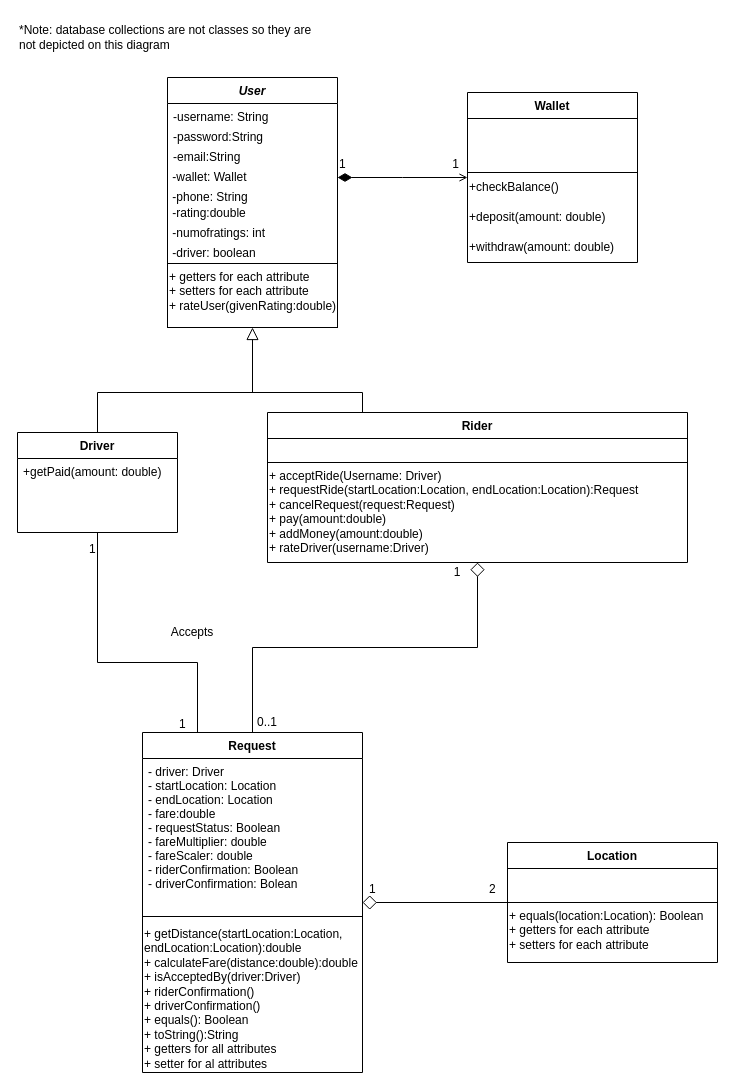
This 735x1090 diagram has some shape labels left out. Here are the shapes that lost their labels. From the top down, the centre of each, then its label:
At point 552,145: "-Balance: double".
At point 477,450: "-Requests: requests".
At point 612,885: "- latitude: double -longitude:double".
